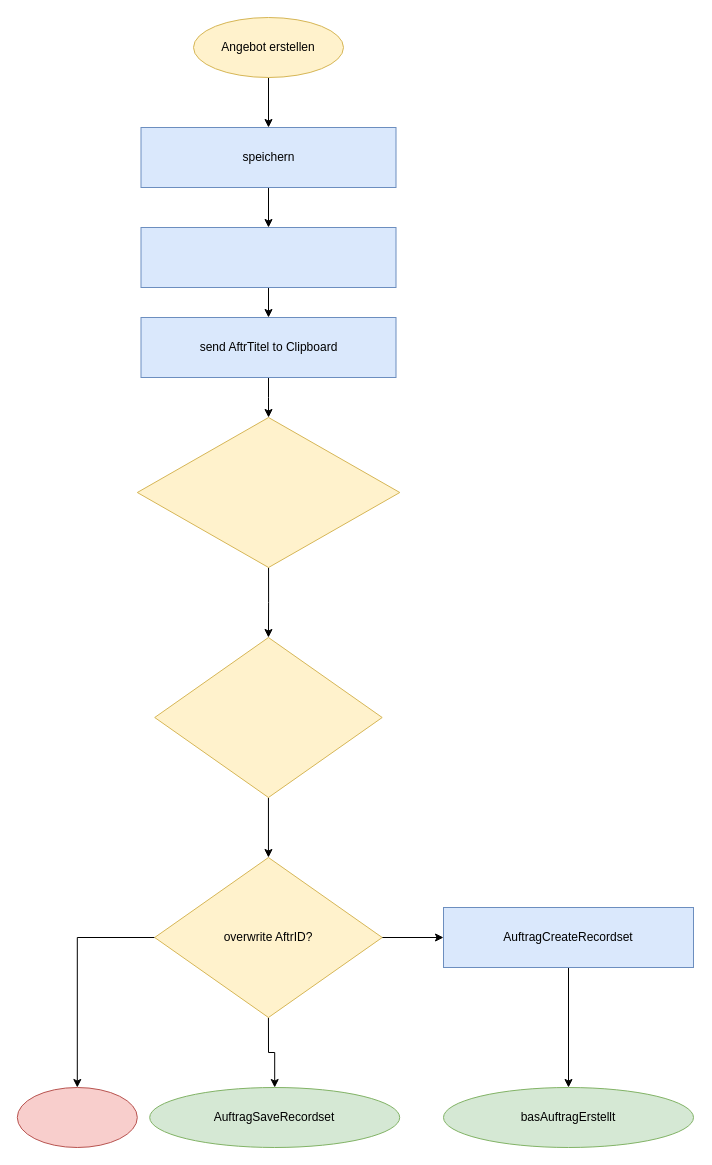
The diagram is 712 pixels wide and 1165 high, and some of its shapes have lost their labels. The shapes that lost their labels are listed below. From the top down, each one's centre as x and y in pixels, then its label:
At point (268, 257): "send AftrID to Clipboard".
At point (268, 492): "isNull(AftrID) or isNull(AftrTitel)".
At point (268, 717): "AftrID is taken".
At point (76, 1117): "Cancel".
